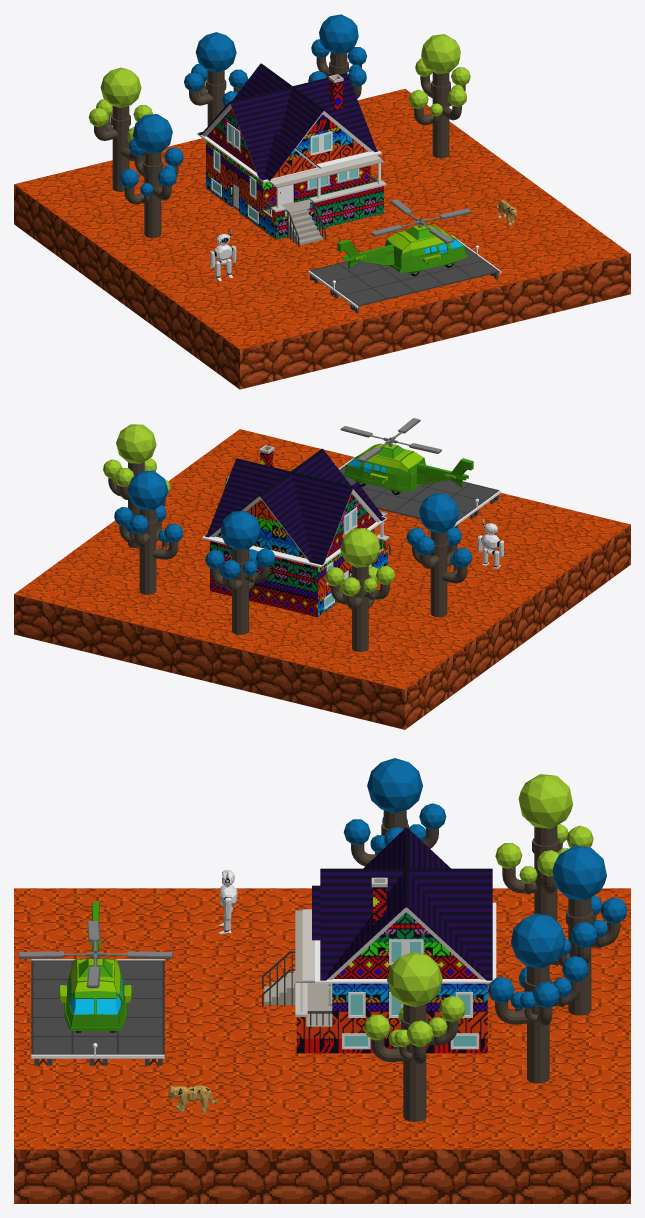
3 views of the same model, one above another, from view 1: azimuth 30°, elevation 25°; view 2: azimuth 150°, elevation 25°; view 3: azimuth 270°, elevation 25° (orthographic). The views are drawn at different scales.
Parts seen in each view (by area): view 1: Cube.001, Cube.966, VEHICLES_HELICOPTER, OBJRANDOM_PLATZEEBOT; view 2: Cube.001, Cube.966, VEHICLES_HELICOPTER, OBJRANDOM_PLATZEEBOT; view 3: Cube.001, Cube.966, VEHICLES_HELICOPTER, ANIMAL_JAGUAR, OBJRANDOM_PLATZEEBOT.
Boxes of the visible parts, <box> form: Cube.001: <box>14,14,630,389</box>; Cube.966: <box>197,63,386,246</box>; VEHICLES_HELICOPTER: <box>337,199,471,276</box>; OBJRANDOM_PLATZEEBOT: <box>210,229,236,280</box>; Cube.001: <box>14,424,630,729</box>; Cube.966: <box>202,445,390,617</box>; VEHICLES_HELICOPTER: <box>340,418,473,494</box>; OBJRANDOM_PLATZEEBOT: <box>477,518,503,569</box>; Cube.001: <box>14,758,630,1203</box>; Cube.966: <box>262,827,496,1053</box>; VEHICLES_HELICOPTER: <box>18,902,172,1032</box>; ANIMAL_JAGUAR: <box>168,1085,218,1112</box>; OBJRANDOM_PLATZEEBOT: <box>218,869,237,933</box>.
Bounding box in the file's own units: 4000 × 1765 × 4000.
39 materials, 8 textured.
